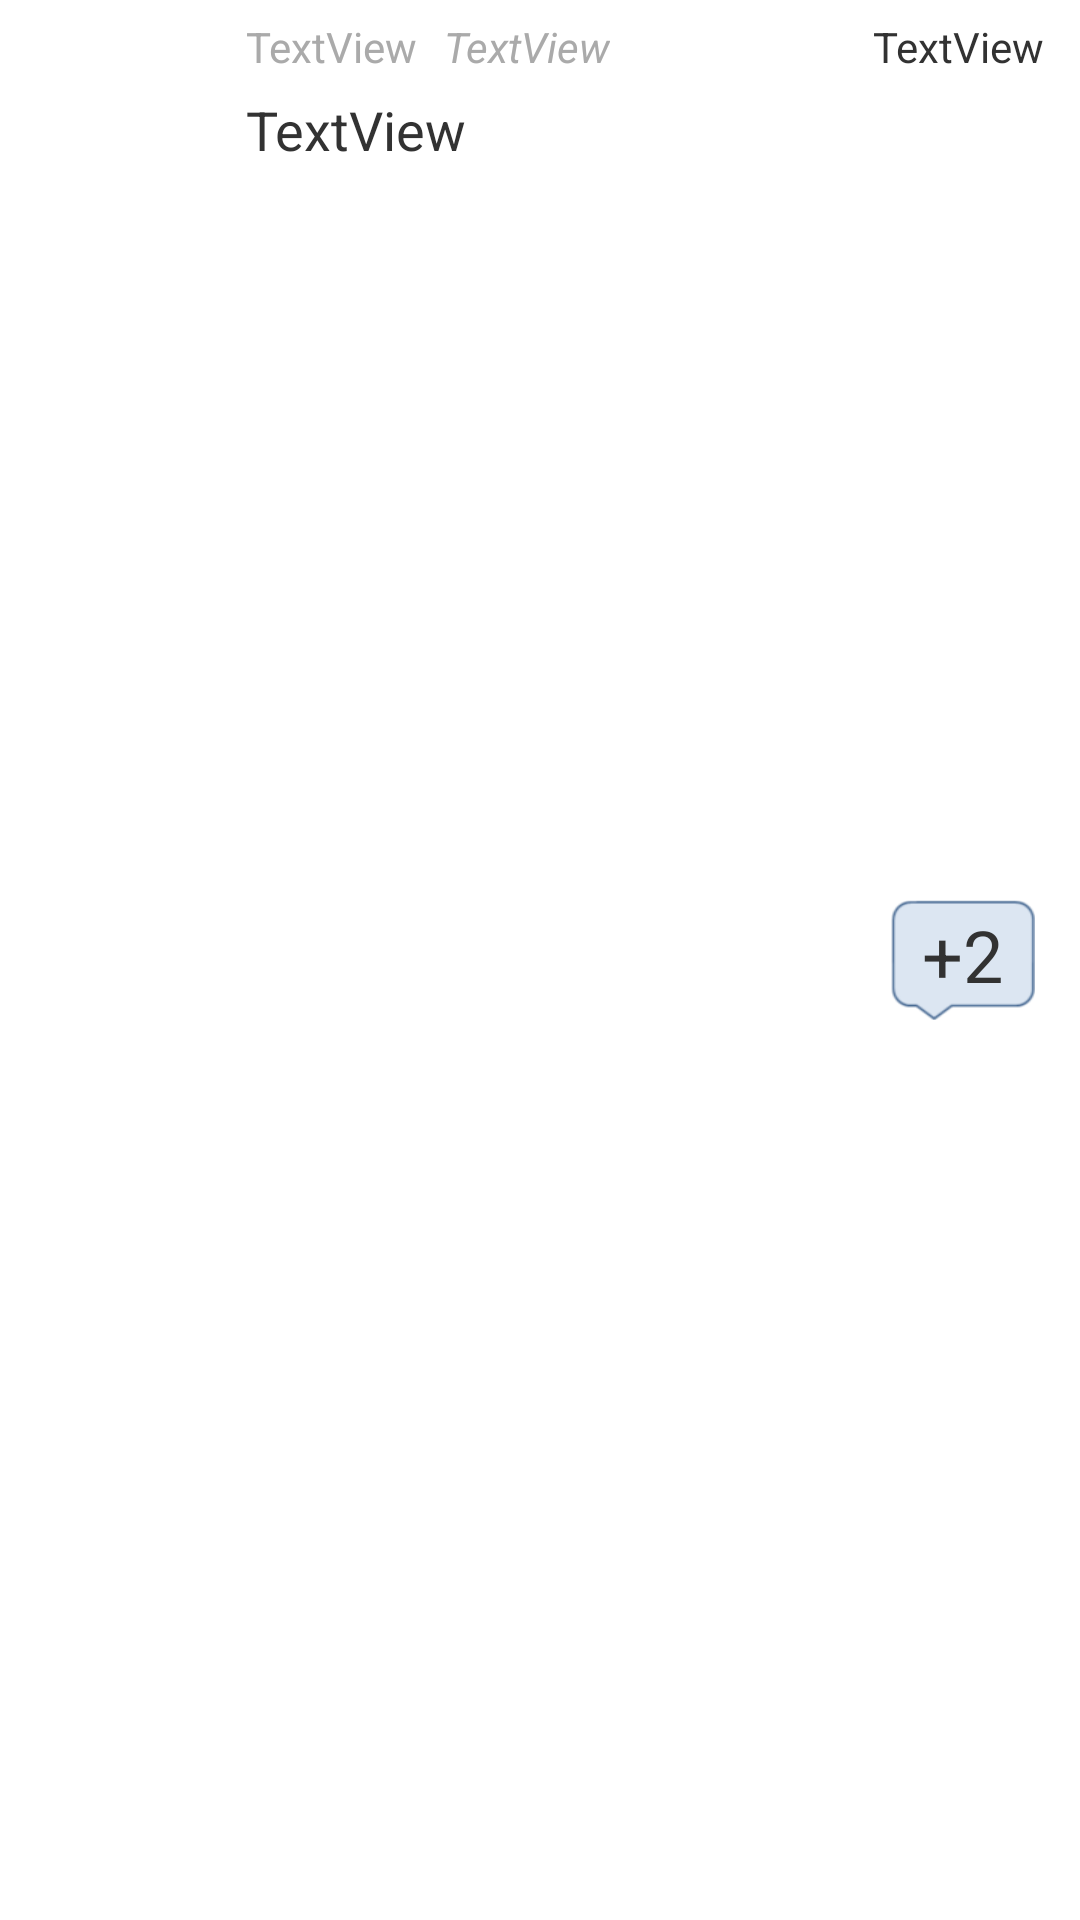

Screen size 1080x1920. Icon name, then its box in pixels as detection(x1, y1, x2, y2):
callout: detection(891, 900, 1035, 1020)
